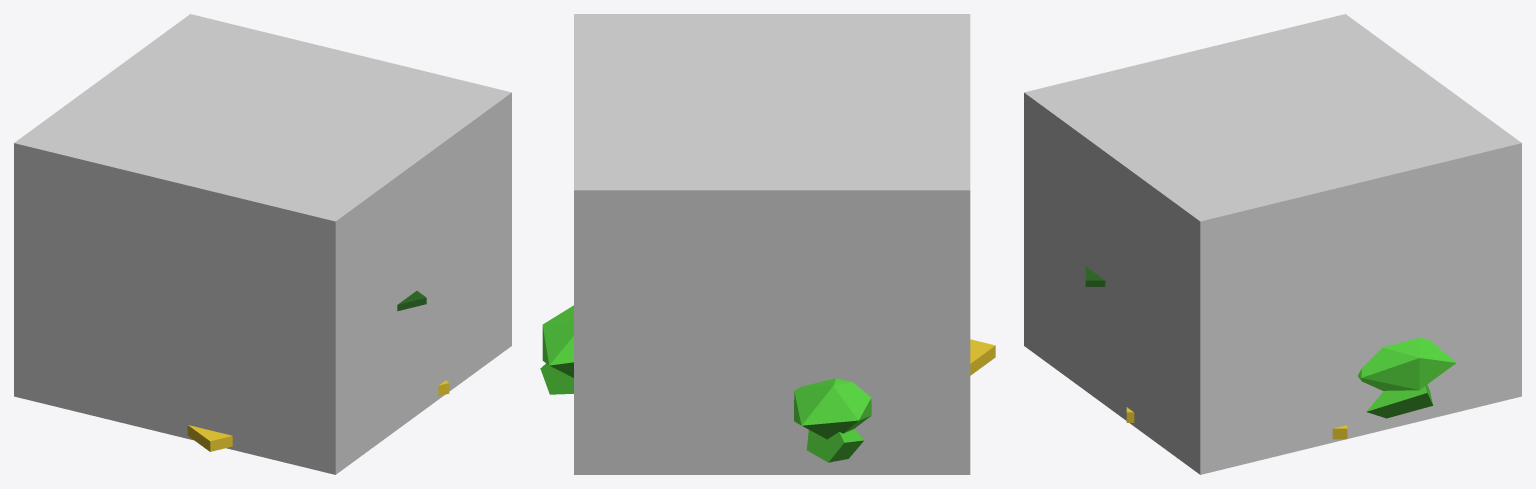
The model's file is jungle_toxic_frog.fbx.
3 renders of one model, left to right at view 1: azimuth 30°, elevation 25°; view 2: azimuth 150°, elevation 25°; view 3: azimuth 270°, elevation 25°, orthographic. The views are drawn at different scales.
Parts seen in each view (by area): view 1: Root__0.00_1.72_-0.18__4.41_3.50_4.65, LegFR__Body__1.10_1.10_-1.10; view 2: Root__0.00_1.72_-0.18__4.41_3.50_4.65, LegBR__Body__1.10_1.10_1.10, LegBL__Body__-1.10_1.10_1.10, LegFR__Body__1.10_1.10_-1.10; view 3: Root__0.00_1.72_-0.18__4.41_3.50_4.65, LegBL__Body__-1.10_1.10_1.10.
Part boxes in pixels (left/top/right/bottom): Root__0.00_1.72_-0.18__4.41_3.50_4.65: left=14, top=14, right=511, bottom=474; LegFR__Body__1.10_1.10_-1.10: left=187, top=425, right=232, bottom=451; Root__0.00_1.72_-0.18__4.41_3.50_4.65: left=574, top=14, right=970, bottom=474; LegBR__Body__1.10_1.10_1.10: left=794, top=378, right=871, bottom=462; LegBL__Body__-1.10_1.10_1.10: left=540, top=305, right=573, bottom=394; LegFR__Body__1.10_1.10_-1.10: left=970, top=339, right=995, bottom=375; Root__0.00_1.72_-0.18__4.41_3.50_4.65: left=1024, top=14, right=1521, bottom=474; LegBL__Body__-1.10_1.10_1.10: left=1332, top=337, right=1456, bottom=439.
Size of the model in its own units: 172 by 98 by 175.
1 material, 1 textured.
